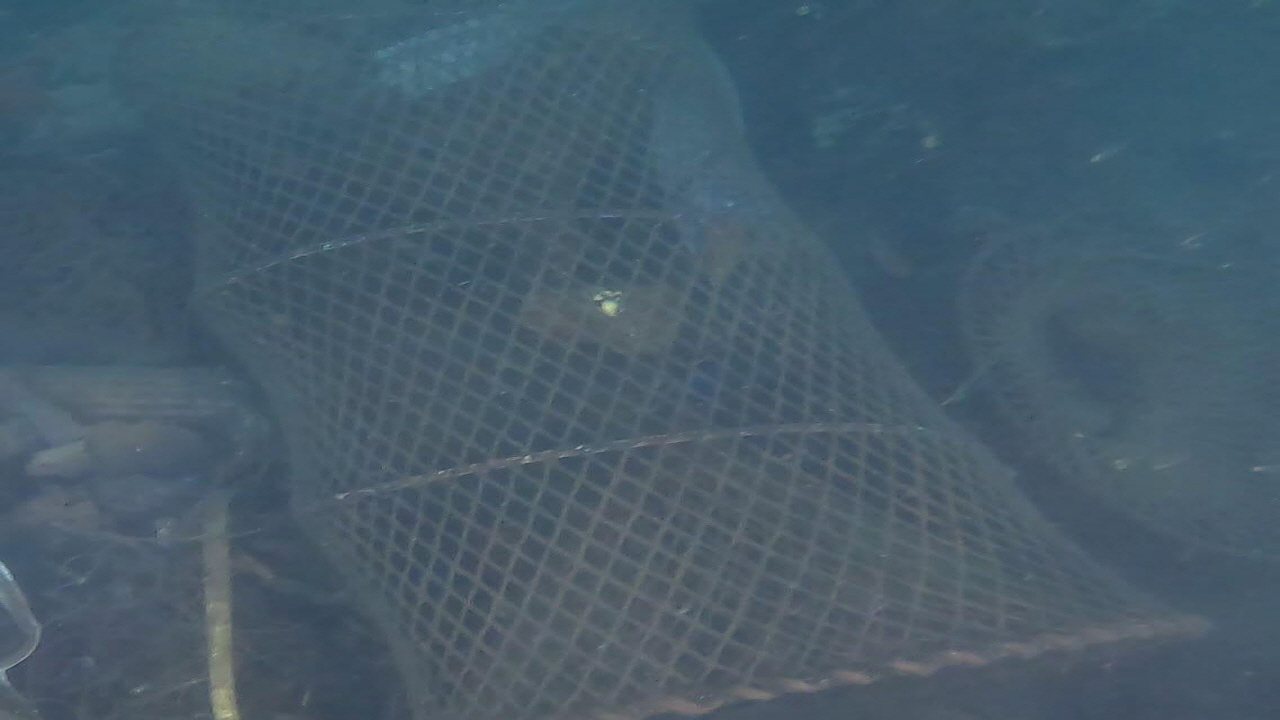spring fish trap: (104, 0, 1216, 720)
